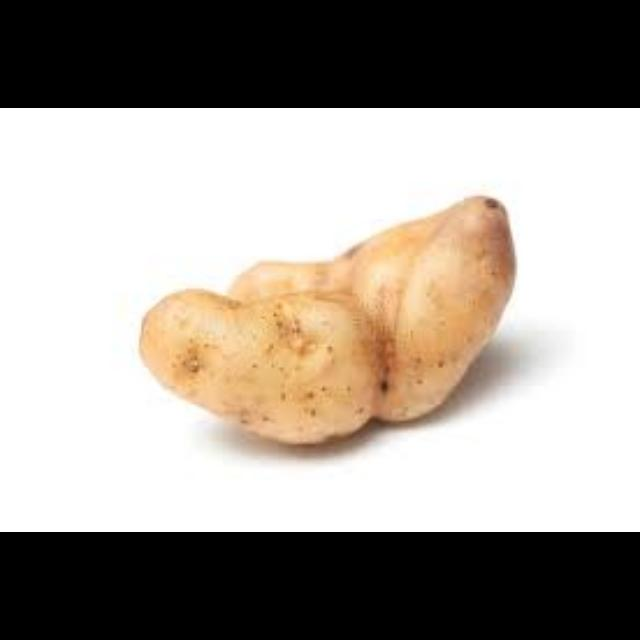Damaged potato: (129, 154, 553, 456)
